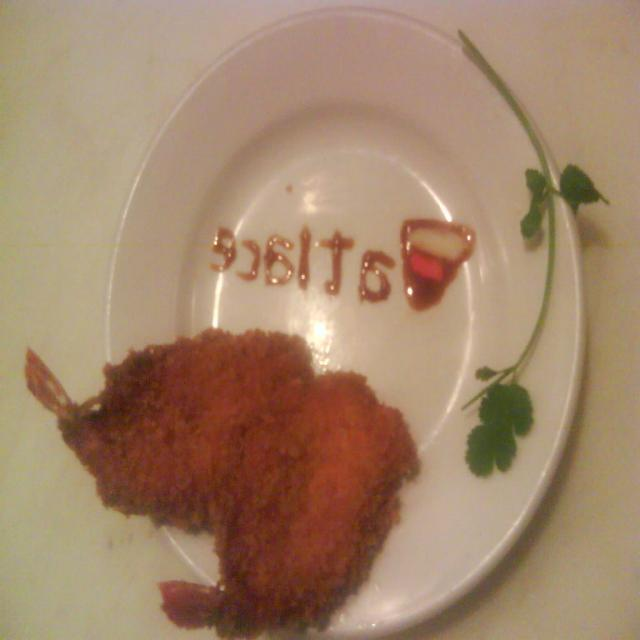ceramic plate: (58, 1, 600, 640)
